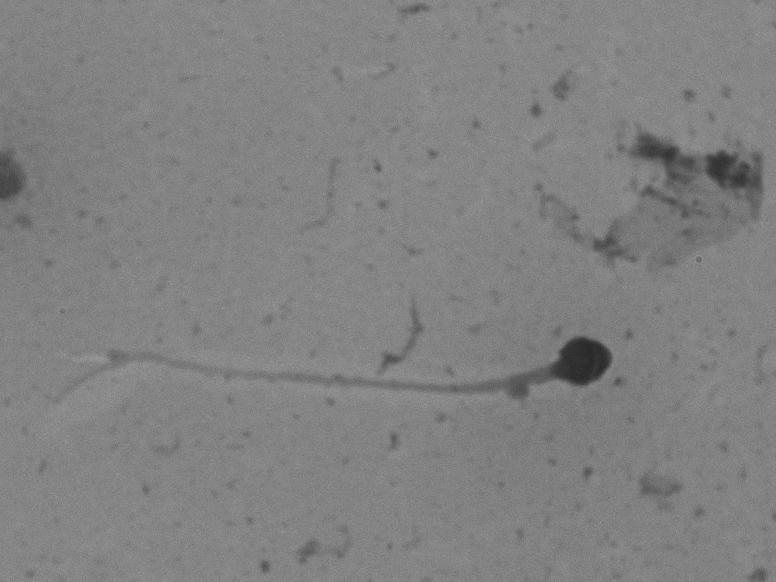Abnormal: (48, 295, 653, 437)
